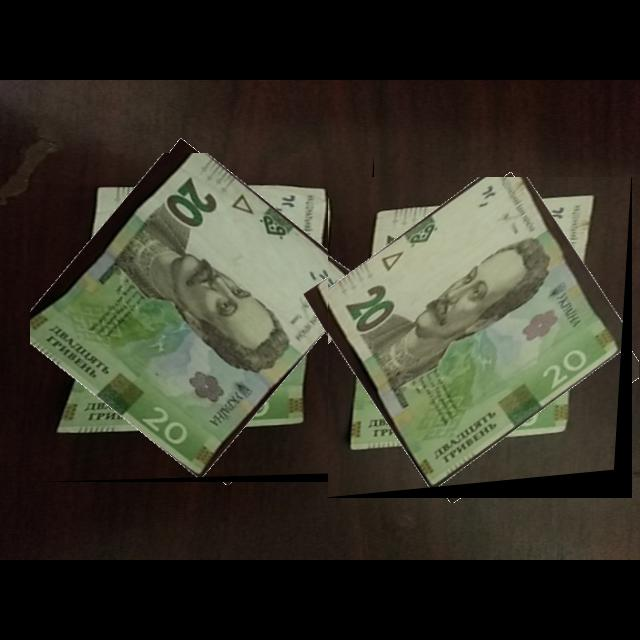20uah: (30, 153, 366, 480), (328, 177, 624, 491)
